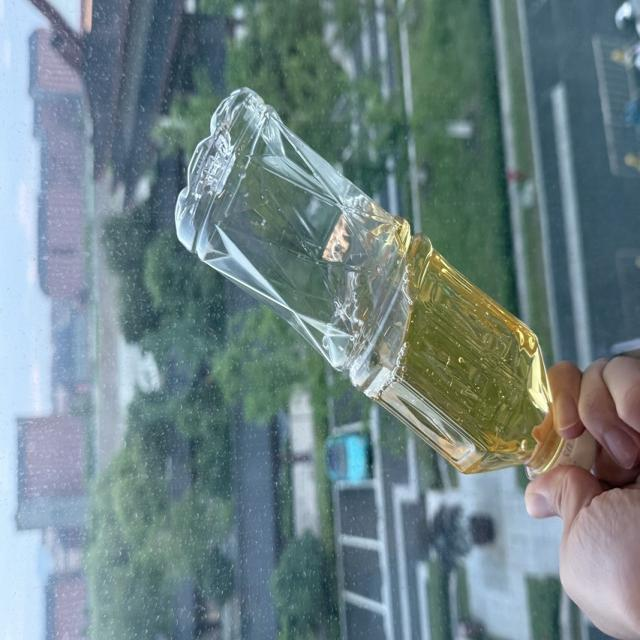medium: (176, 89, 596, 475)
